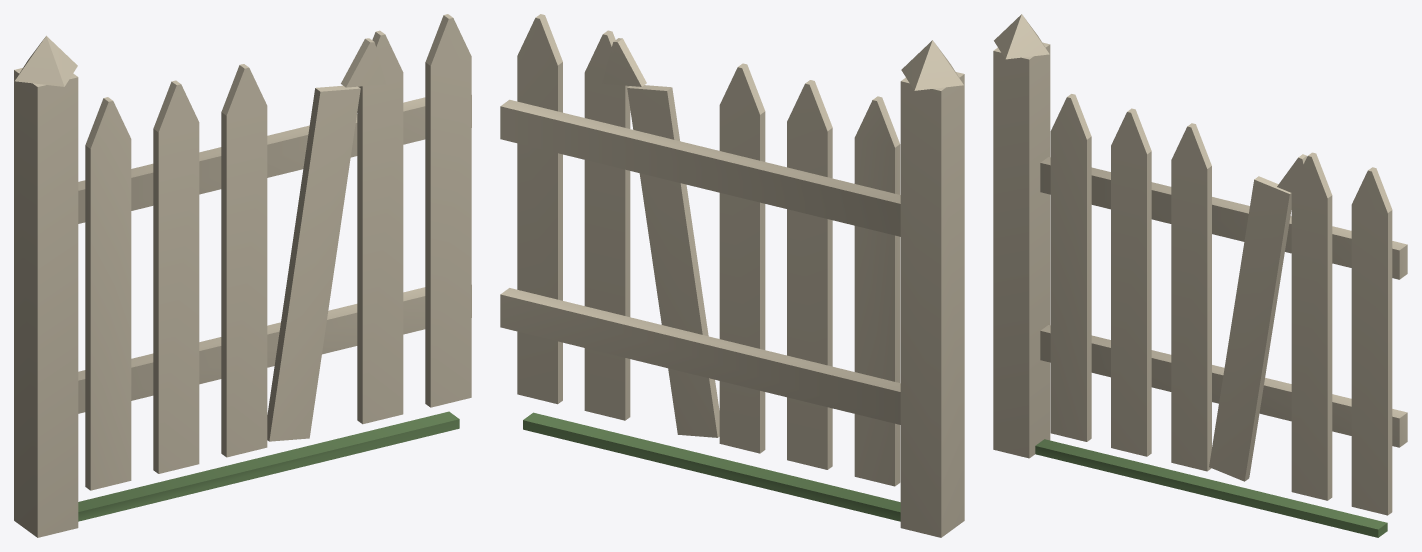
Rendered from curb_fence_picket.glb.
3 views of the same model, side by side, from view 1: azimuth 30°, elevation 25°; view 2: azimuth 150°, elevation 25°; view 3: azimuth 330°, elevation 25° (orthographic). The views are drawn at different scales.
Parts seen in each view (by area): view 1: curb_fence_picket; view 2: curb_fence_picket; view 3: curb_fence_picket.
Boxes of the visible parts, box(x1,y1,x2,y2) form: curb_fence_picket: box(14, 14, 471, 537); curb_fence_picket: box(500, 14, 964, 537); curb_fence_picket: box(993, 14, 1407, 537).
Bounding box in the file's own units: 1.01 × 1.03 × 0.14.
